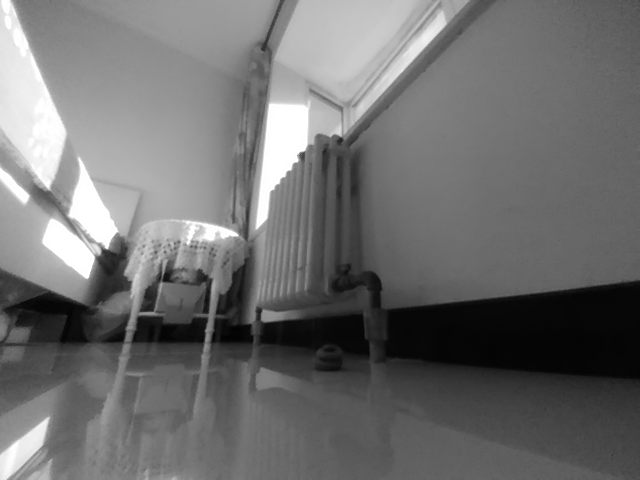pet feces: (313, 343, 343, 372)
